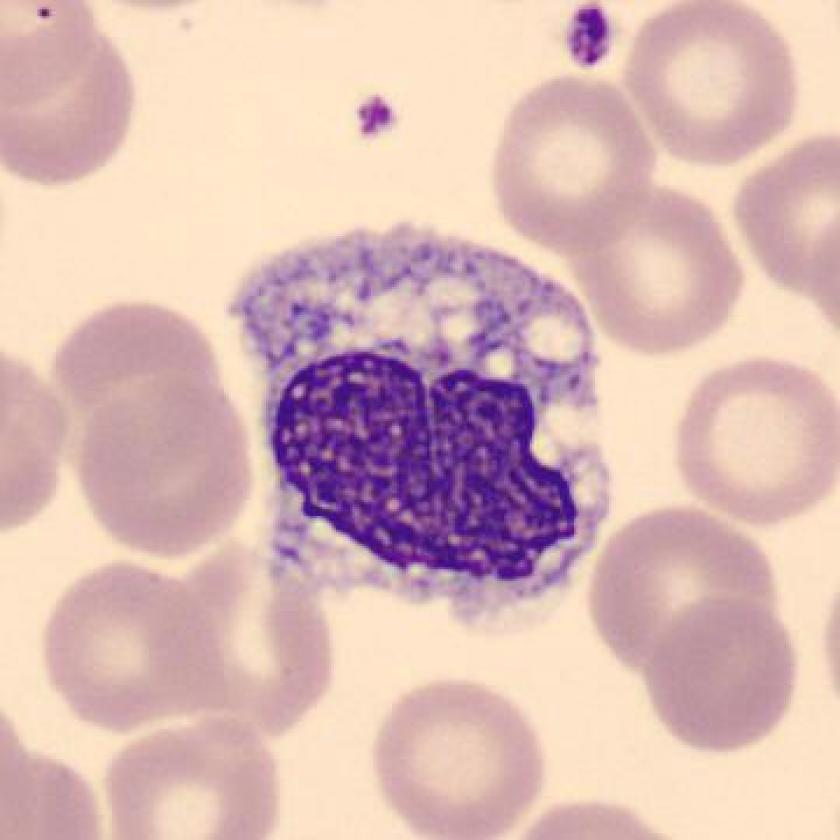monocyte: (204, 198, 643, 644)
